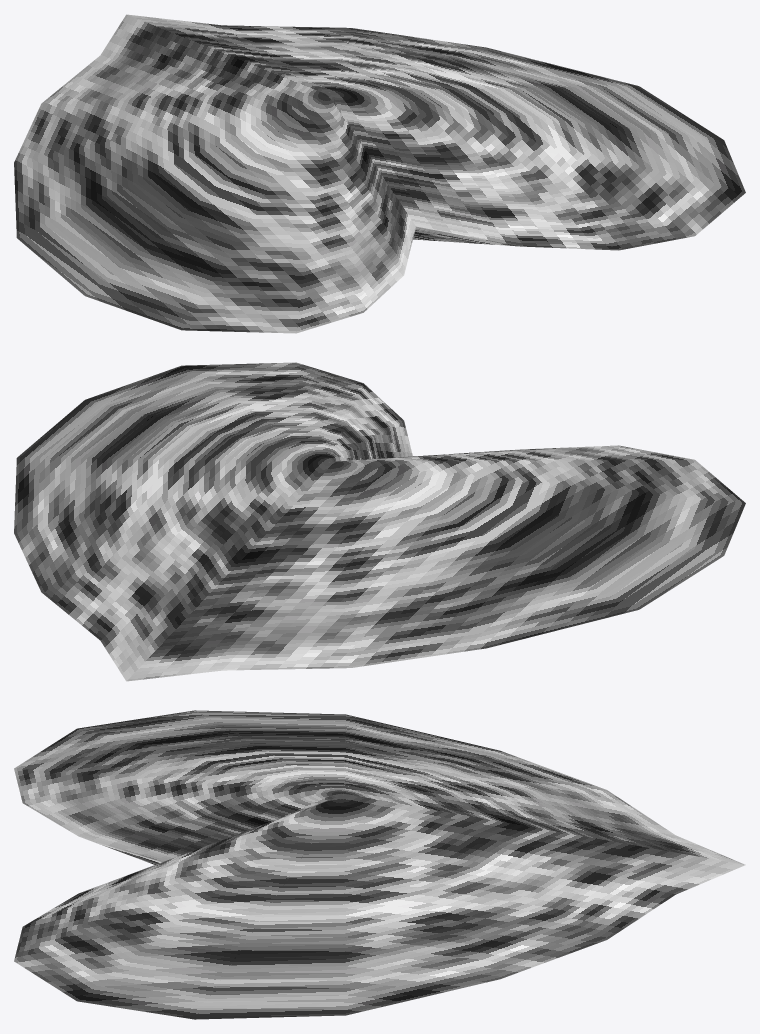
Rendered from xmaseicehart.glb.
The picture shows the model from 3 angles, top to bottom: view 1: azimuth 30°, elevation 25°; view 2: azimuth 150°, elevation 25°; view 3: azimuth 270°, elevation 25°; orthographic projection.
Visible parts, largest first — view 1: model_xmaseicehart; view 2: model_xmaseicehart; view 3: model_xmaseicehart.
Boxes of the visible parts, x1,y1,x2,y2 form: model_xmaseicehart: (14,14,745,333); model_xmaseicehart: (14,362,745,681); model_xmaseicehart: (14,710,745,1019).
Size of the model in its own units: 0.2077 by 0.044 by 0.2079.
1 material, 1 textured.
